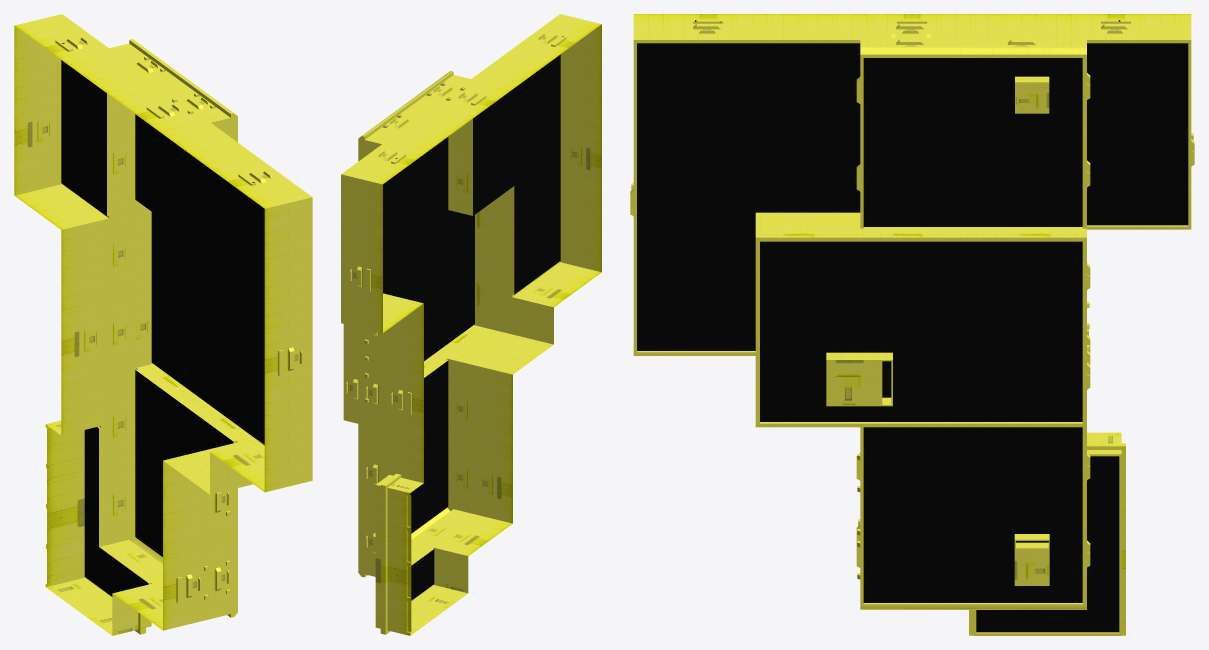
Rendered from S_BD_Industrial_03.dae.
3 renders of one model, left to right at view 1: azimuth 30°, elevation 25°; view 2: azimuth 150°, elevation 25°; view 3: azimuth 270°, elevation 25°, orthographic. The views are drawn at different scales.
Parts seen in each view (by area): view 1: S_BD_Industrial_03.002, S_BD_Industrial_03.003, S_BD_Industrial_03.001; view 2: S_BD_Industrial_03.002, S_BD_Industrial_03.003, S_BD_Industrial_03.001; view 3: S_BD_Industrial_03.003, S_BD_Industrial_03.001, S_BD_Industrial_03.002.
Part boxes in pixels (left/top/right/bottom): S_BD_Industrial_03.002: left=14, top=14, right=312, bottom=630; S_BD_Industrial_03.003: left=61, top=60, right=264, bottom=596; S_BD_Industrial_03.001: left=45, top=37, right=302, bottom=635; S_BD_Industrial_03.002: left=341, top=14, right=601, bottom=577; S_BD_Industrial_03.003: left=383, top=54, right=560, bottom=600; S_BD_Industrial_03.001: left=346, top=33, right=566, bottom=635; S_BD_Industrial_03.003: left=637, top=43, right=1188, bottom=632; S_BD_Industrial_03.001: left=630, top=19, right=1194, bottom=635; S_BD_Industrial_03.002: left=633, top=14, right=1191, bottom=609.
Bounding box in the file's own units: 28.88 × 124 × 148.
